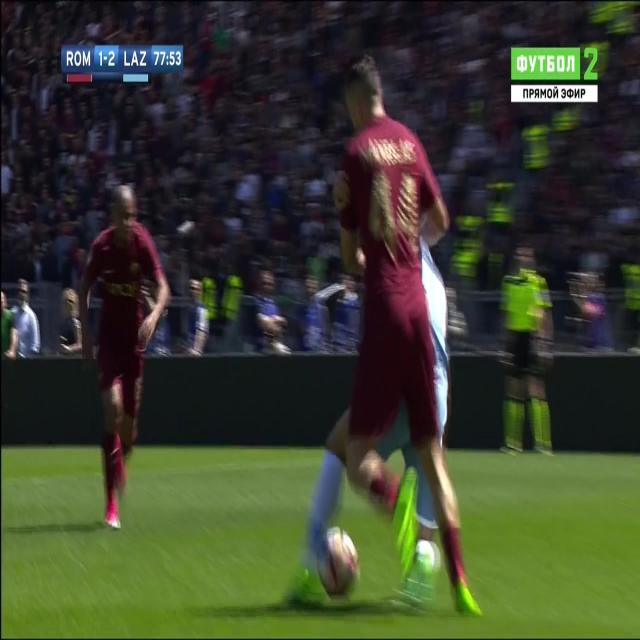Ball: (311, 521, 362, 607)
Player: (333, 59, 483, 615), (78, 182, 168, 536)
Referee: (496, 242, 558, 458)
